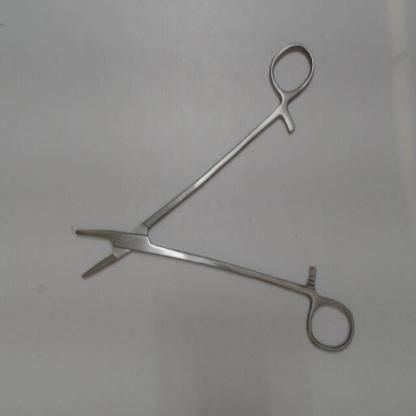8 Mayo Needle Holder: (66, 32, 364, 360)
